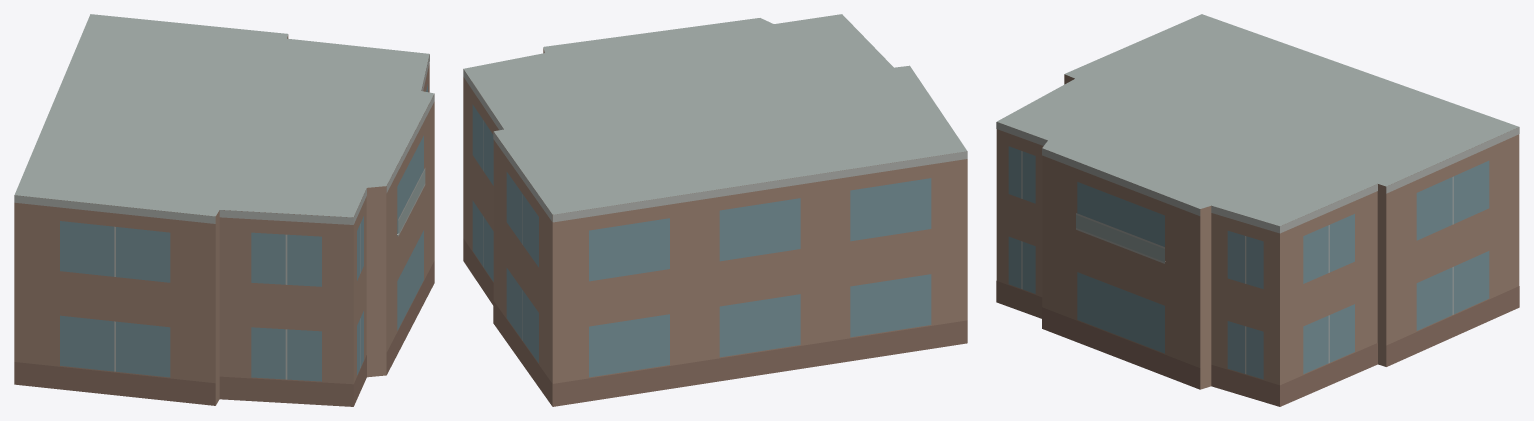
Rendered from survey-upis-32936904.glb.
3 views of the same model, side by side, from view 1: azimuth 30°, elevation 25°; view 2: azimuth 150°, elevation 25°; view 3: azimuth 270°, elevation 25° (orthographic). The views are drawn at different scales.
Parts seen in each view (by area): view 1: survey-upis-32936904.tmp; view 2: survey-upis-32936904.tmp; view 3: survey-upis-32936904.tmp.
Part boxes in pixels (x1=…): survey-upis-32936904.tmp: x1=14, y1=14, x2=434, y2=406; survey-upis-32936904.tmp: x1=463, y1=14, x2=967, y2=406; survey-upis-32936904.tmp: x1=996, y1=14, x2=1519, y2=406.
Size of the model in its own units: 15.39 by 6.1 by 16.02.
